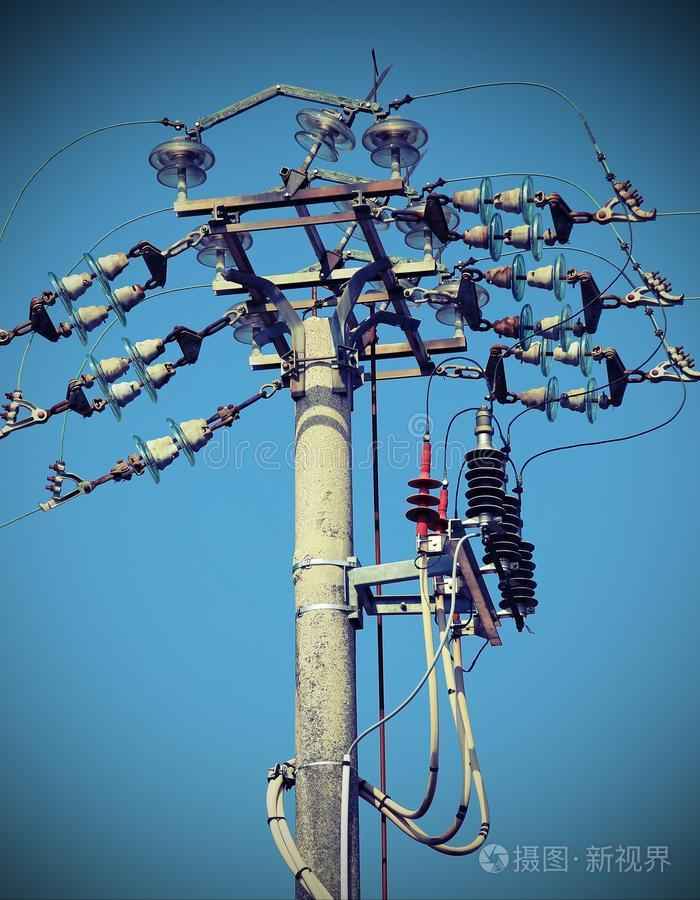insulator: (131, 415, 198, 485), (50, 252, 113, 318), (147, 135, 216, 188), (470, 173, 544, 222), (361, 118, 428, 172), (482, 213, 551, 262), (289, 108, 353, 160), (462, 445, 508, 515), (499, 254, 573, 297), (65, 288, 125, 341), (509, 302, 571, 353), (184, 223, 254, 268), (502, 533, 538, 619), (483, 488, 523, 565), (538, 377, 604, 423), (86, 345, 145, 390), (100, 369, 155, 417), (402, 471, 444, 528), (232, 301, 283, 346), (537, 335, 590, 378)
